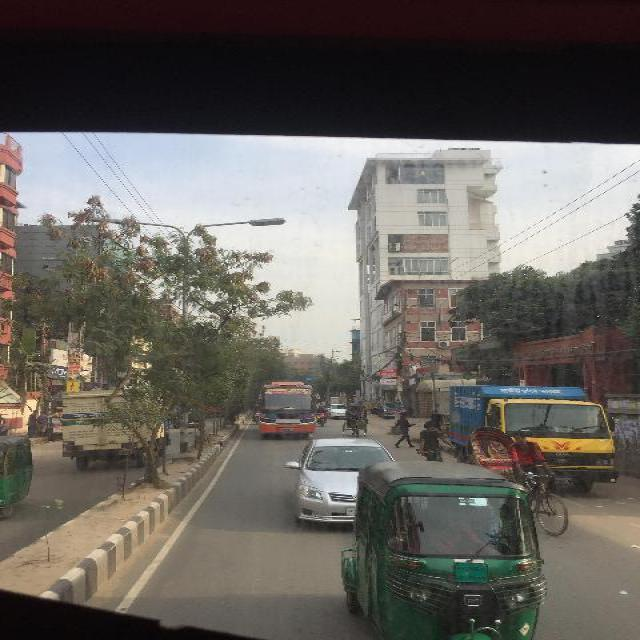bike: (415, 446, 448, 463), (317, 412, 328, 428), (252, 412, 260, 425)
vehicle: (342, 461, 548, 640), (450, 384, 616, 484), (465, 426, 573, 536), (293, 437, 394, 529), (62, 392, 170, 464), (259, 384, 316, 435), (1, 436, 34, 523), (343, 410, 367, 438), (379, 403, 404, 418), (326, 405, 348, 420)
